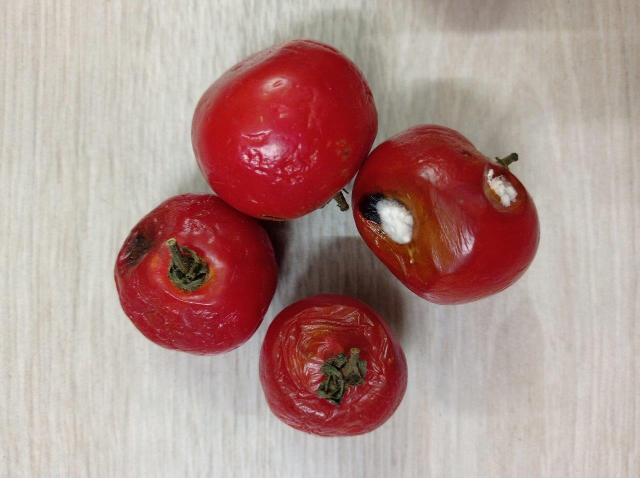defect: (347, 119, 543, 308), (110, 191, 277, 357), (258, 292, 410, 444)
